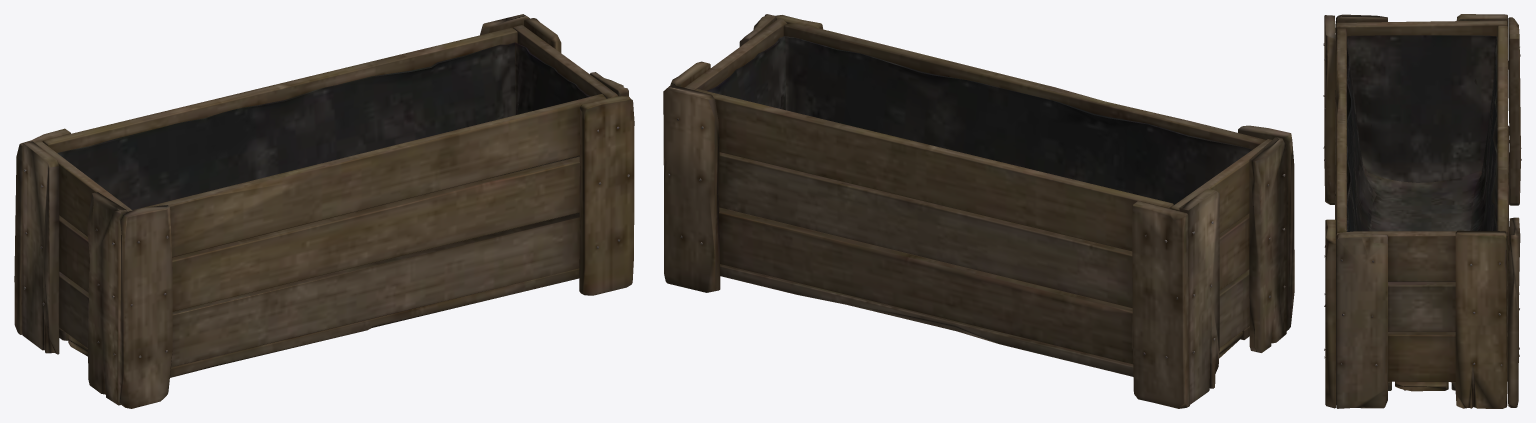
The model's file is planter.glb.
The picture shows the model from 3 angles, left to right: view 1: azimuth 30°, elevation 25°; view 2: azimuth 150°, elevation 25°; view 3: azimuth 270°, elevation 25°; orthographic projection. The views are drawn at different scales.
Visible parts, largest first — view 1: planter_box_02; view 2: planter_box_02; view 3: planter_box_02.
Part boxes in pixels (x1,y1,x2,y2): planter_box_02: (14, 14, 634, 408); planter_box_02: (663, 14, 1294, 408); planter_box_02: (1323, 14, 1521, 408).
Bounding box in the file's own units: 1.25 × 0.4534 × 0.4672.
1 material, 1 textured.
